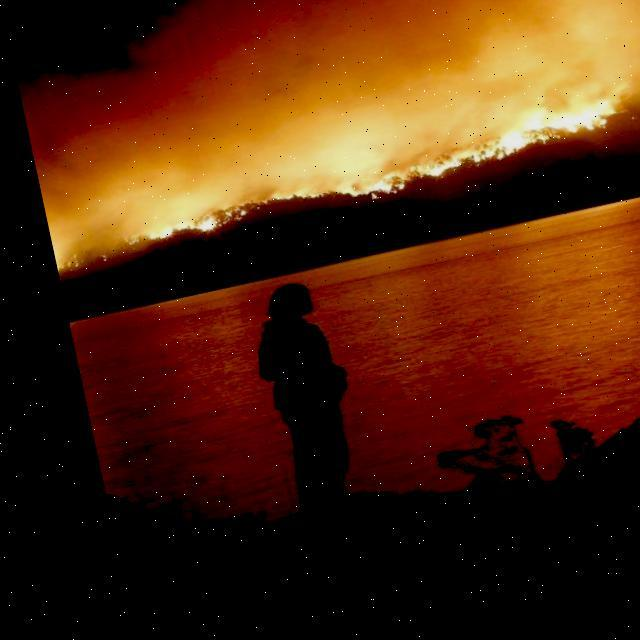Fire: (36, 96, 633, 268)
